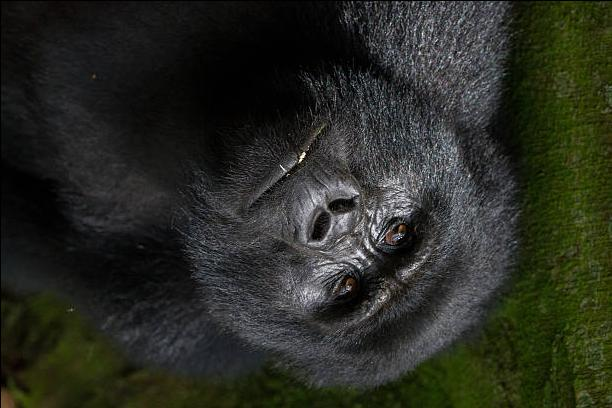goriile_montagne: (5, 0, 530, 401)
